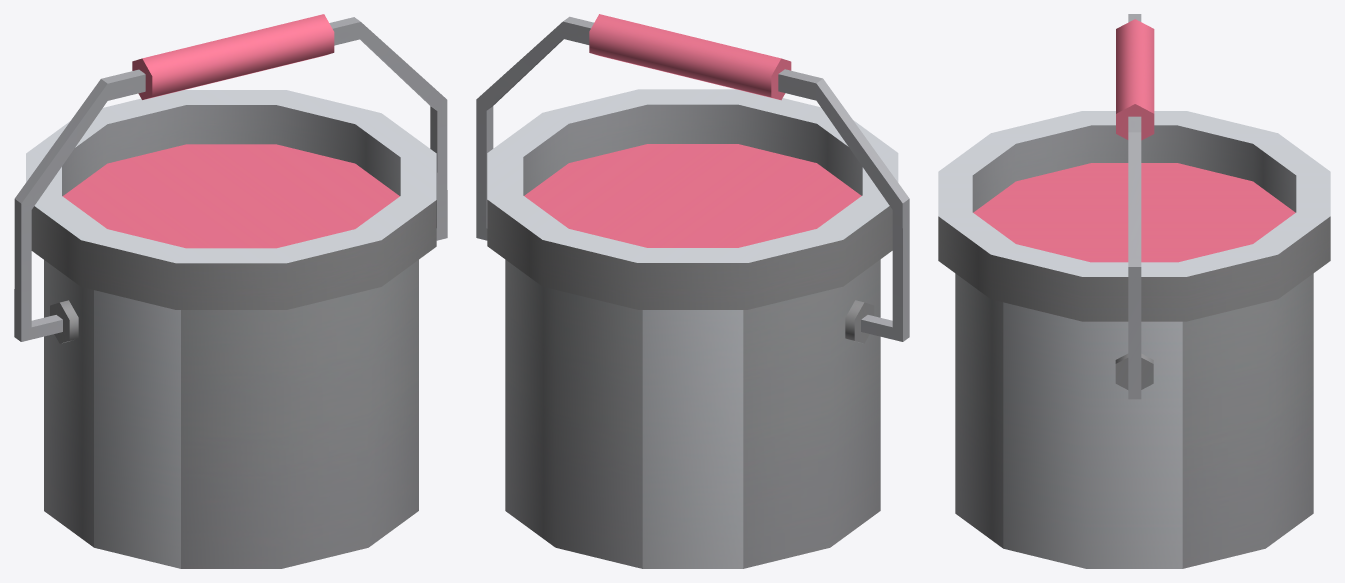
File: SM_Bucket.fbx
3 renders of one model, left to right at view 1: azimuth 30°, elevation 25°; view 2: azimuth 150°, elevation 25°; view 3: azimuth 270°, elevation 25°, orthographic. The views are drawn at different scales.
Visible parts, largest first — view 1: SM_Bucket; view 2: SM_Bucket; view 3: SM_Bucket.
Boxes of the visible parts, box(x1,y1,x2,y2) form: SM_Bucket: box(14, 14, 447, 568); SM_Bucket: box(476, 14, 909, 568); SM_Bucket: box(938, 14, 1330, 568).
Bounding box in the file's own units: 27.69 × 28.1 × 23.09.
